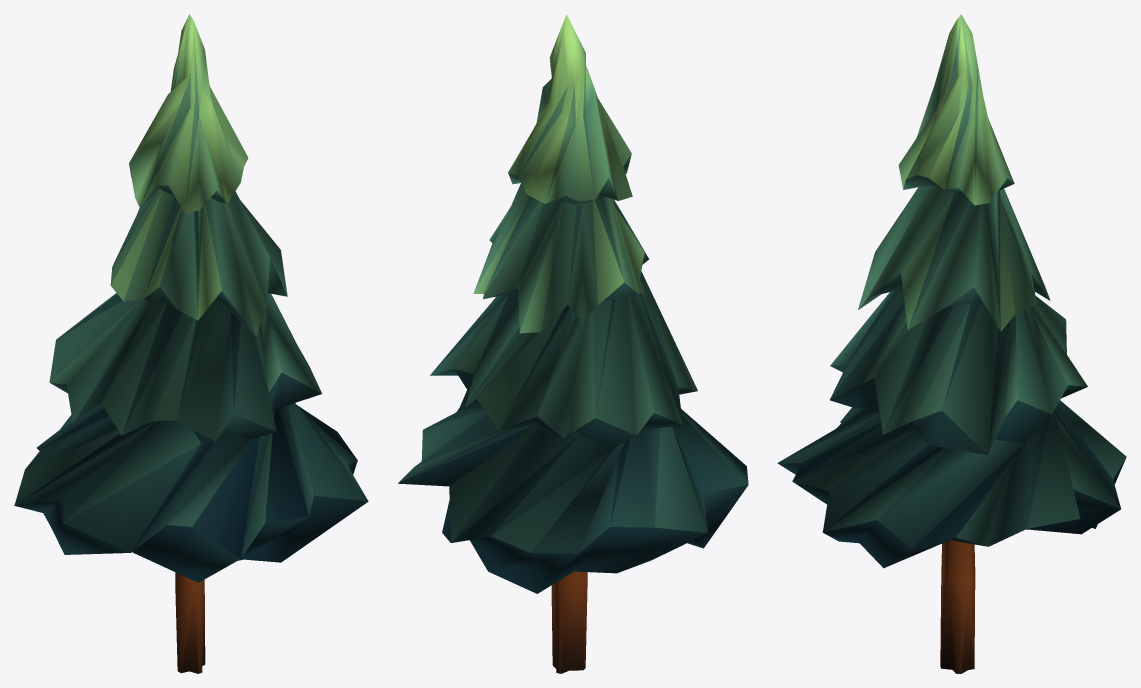
The model's file is Pine_Tree_2A.fbx.
3 views of the same model, side by side, from view 1: azimuth 30°, elevation 25°; view 2: azimuth 150°, elevation 25°; view 3: azimuth 270°, elevation 25° (orthographic).
Parts seen in each view (by area): view 1: Pine_Tree_2A; view 2: Pine_Tree_2A; view 3: Pine_Tree_2A.
Boxes of the visible parts, left/top/right/bottom form: Pine_Tree_2A: left=14, top=14, right=368, bottom=673; Pine_Tree_2A: left=398, top=14, right=748, bottom=673; Pine_Tree_2A: left=777, top=14, right=1126, bottom=673.
Bounding box in the file's own units: 307 × 630 × 306.
